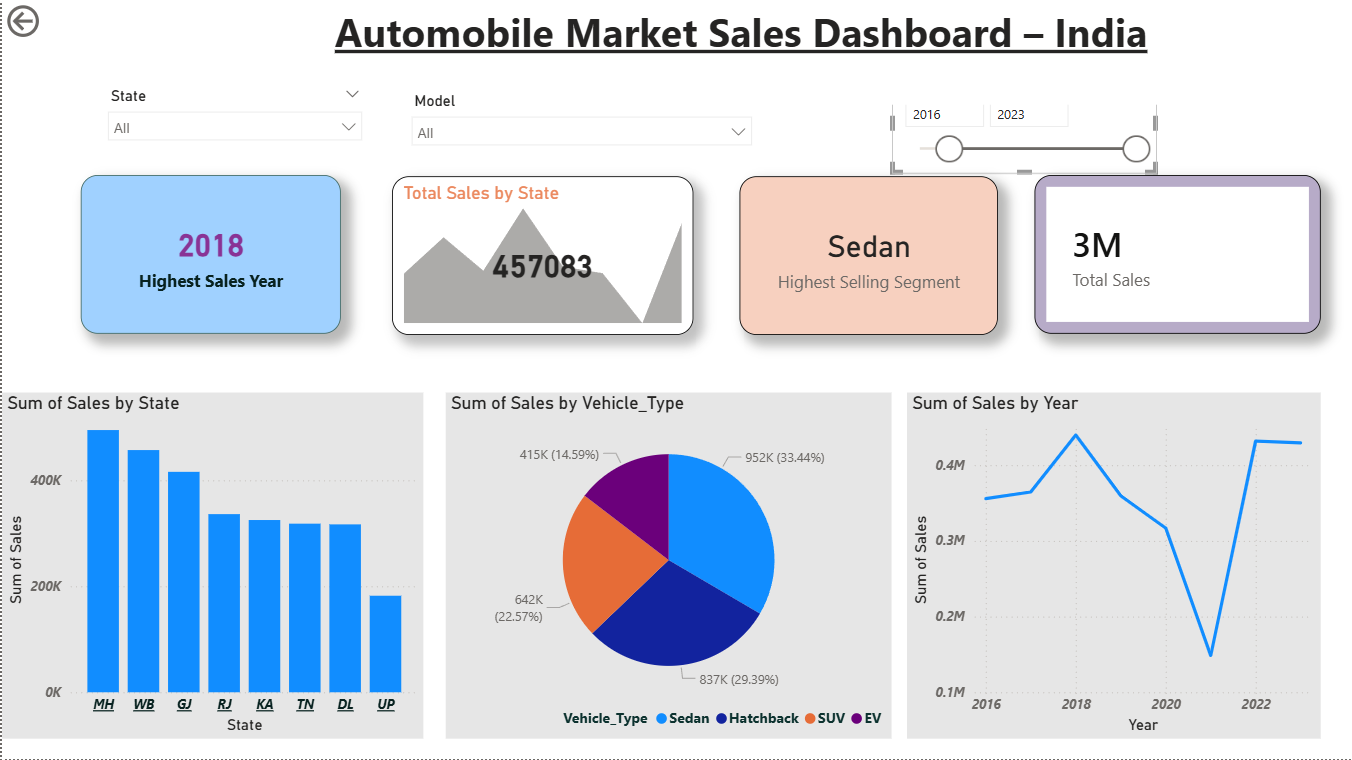

What the dashboard file says about the page in this screenshot:
{"tool":"powerbi","page":{"name":"Page 1","canvas":[1280,720],"ordinal":0},"visuals":[{"type":"lineChart","fields":{"Category":["automobile_data.Year"],"Y":["Sum(automobile_data.Sales)"]},"box":[857.2,371.8,392.2,328],"z":0},{"type":"columnChart","fields":{"Y":["Sum(automobile_data.Sales)"],"Category":["automobile_data.State"]},"box":[0,371.8,399.5,328],"z":1000},{"type":"pieChart","fields":{"Category":["automobile_data.Vehicle_Type"],"Y":["Sum(automobile_data.Sales)"]},"box":[419.9,371.8,422.8,328],"z":2000},{"type":"slicer","fields":{"Values":["automobile_data.Year"]},"box":[842.6,70,252.2,94.8],"z":3000},{"type":"actionButton","box":[0,0,100,40],"z":4000},{"type":"textbox","box":[310.5,0,798.9,99.1],"z":5000},{"type":"card","fields":{"Values":["automobile_data.Highest Sales Year"]},"box":[74.4,166.2,246.4,150.2],"z":6000},{"type":"slicer","fields":{"Values":["automobile_data.State"]},"box":[90.4,77.3,261,72.9],"z":7000},{"type":"slicer","fields":{"Values":["automobile_data.Model"]},"box":[377.6,81.6,342.6,64.1],"z":8000},{"type":"kpi","fields":{"Indicator":["automobile_data.Total Sales"],"TrendLine":["automobile_data.State"]},"box":[369,166.7,285.7,150],"z":9000},{"type":"card","fields":{"Values":["automobile_data.Highest Selling Segment"]},"box":[698.7,167,245.2,150.4],"z":10000},{"type":"cardVisual","fields":{"Data":["automobile_data.Total Sales"]},"box":[978.2,166.2,271.2,150.2],"z":11000}]}

Visuals, with their boxes in screenshot pixels (x1, y1, x2, y2), scaled from the page's 1280x720 canvas onto the 1352x760 screenshot:
lineChart - automobile_data.Year x Sum(automobile_data.Sales): bbox(905, 392, 1320, 739)
columnChart - Sum(automobile_data.Sales) x automobile_data.State: bbox(0, 392, 422, 739)
pieChart - automobile_data.Vehicle_Type x Sum(automobile_data.Sales): bbox(444, 392, 890, 739)
slicer - automobile_data.Year: bbox(890, 74, 1156, 174)
actionButton: bbox(0, 0, 106, 42)
textbox: bbox(328, 0, 1172, 105)
card - automobile_data.Highest Sales Year: bbox(79, 175, 339, 334)
slicer - automobile_data.State: bbox(95, 82, 371, 159)
slicer - automobile_data.Model: bbox(399, 86, 761, 154)
kpi - automobile_data.Total Sales x automobile_data.State: bbox(390, 176, 692, 334)
card - automobile_data.Highest Selling Segment: bbox(738, 176, 997, 335)
cardVisual - automobile_data.Total Sales: bbox(1033, 175, 1320, 334)
